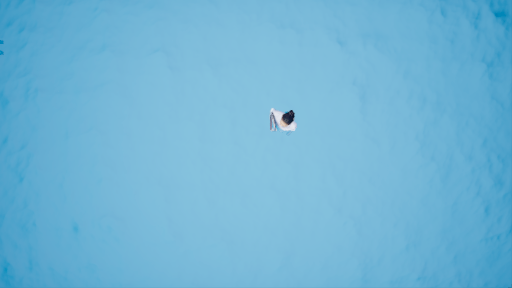person: (265, 107, 301, 136)
